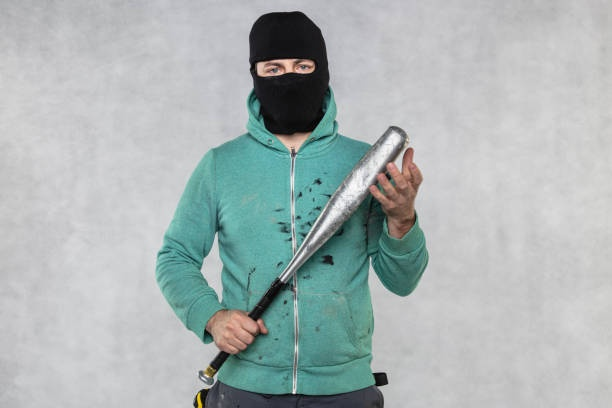bita: (196, 123, 412, 380)
